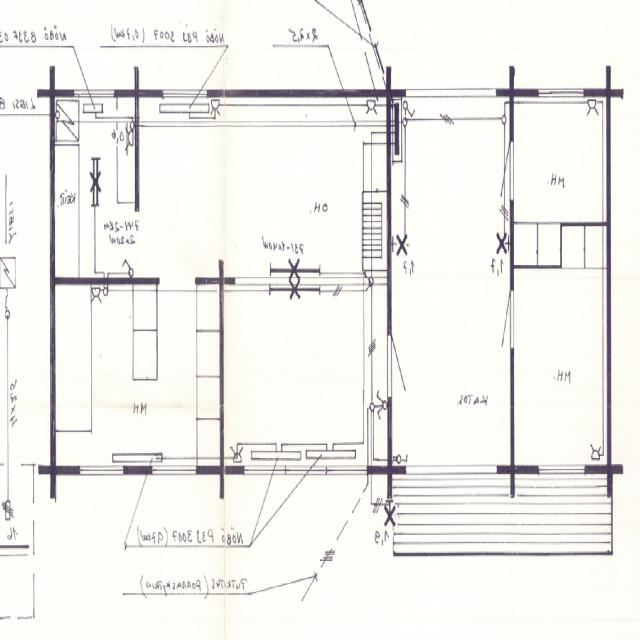door: (387, 335, 424, 396), (480, 142, 514, 200), (482, 291, 514, 347)
